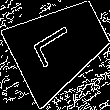L_NE: (33, 20, 86, 71)
